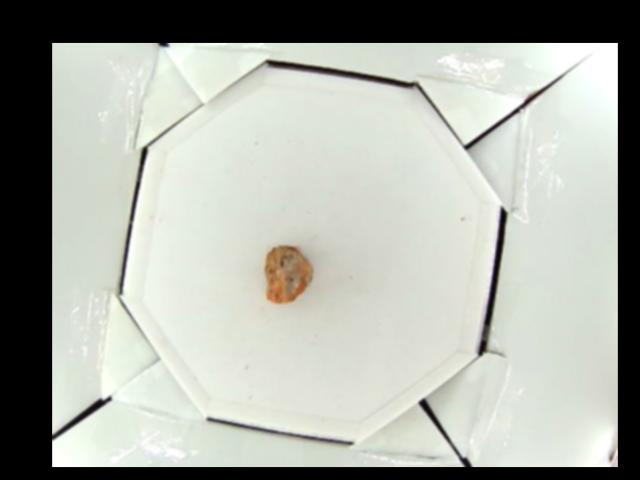Brisk: (263, 246, 312, 301)
